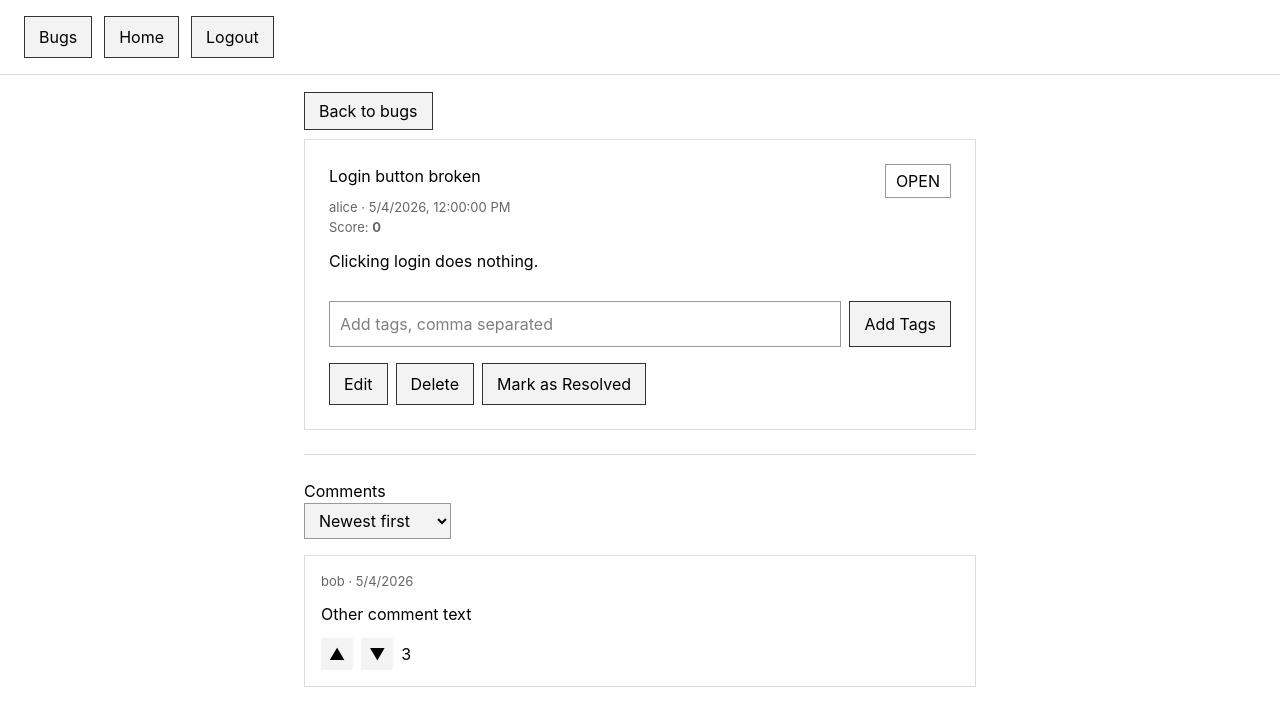
it: comments › downvote then upvote → score changes +2
Step 1. Click the button named "Downvote" → point(377, 654), box [361,638,393,670]
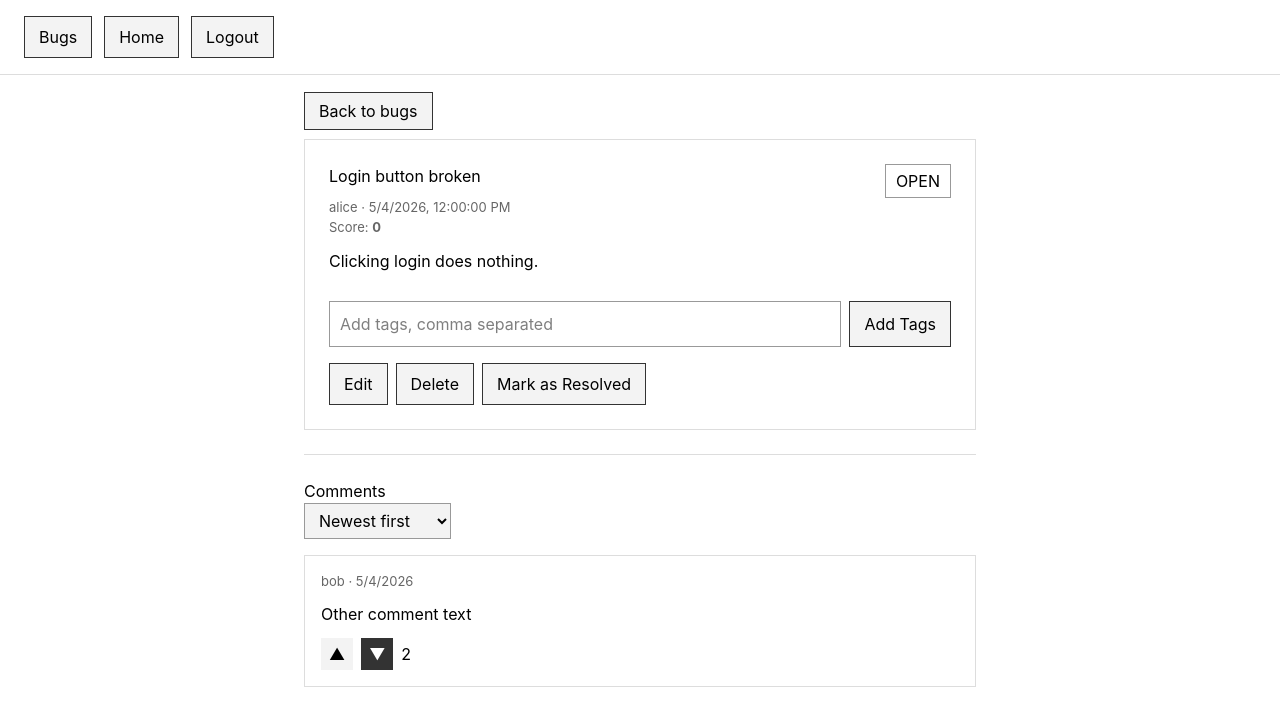
Expected: the text with test id "comment-score" reads "2", [401,644,411,664]
Step 2. Click the button named "Upvote" → point(337, 654), box [321,638,353,670]
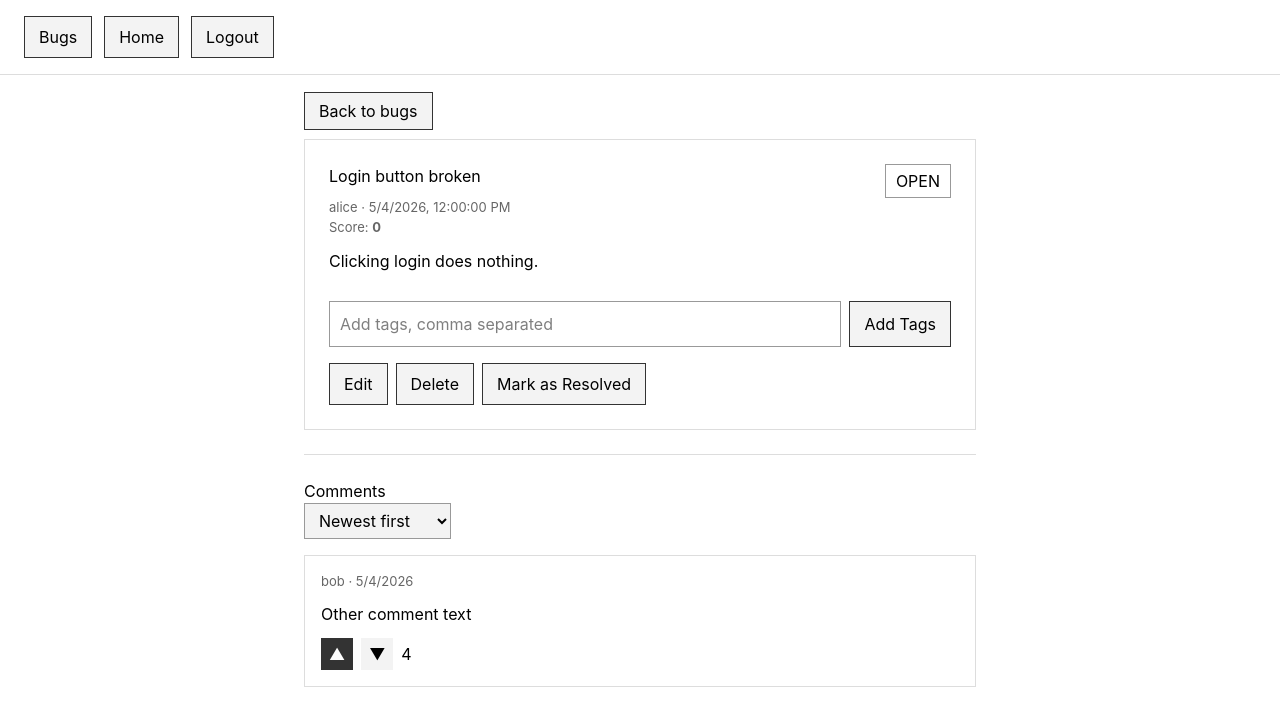
Expected: the text with test id "comment-score" reads "4", [401,644,411,664]
